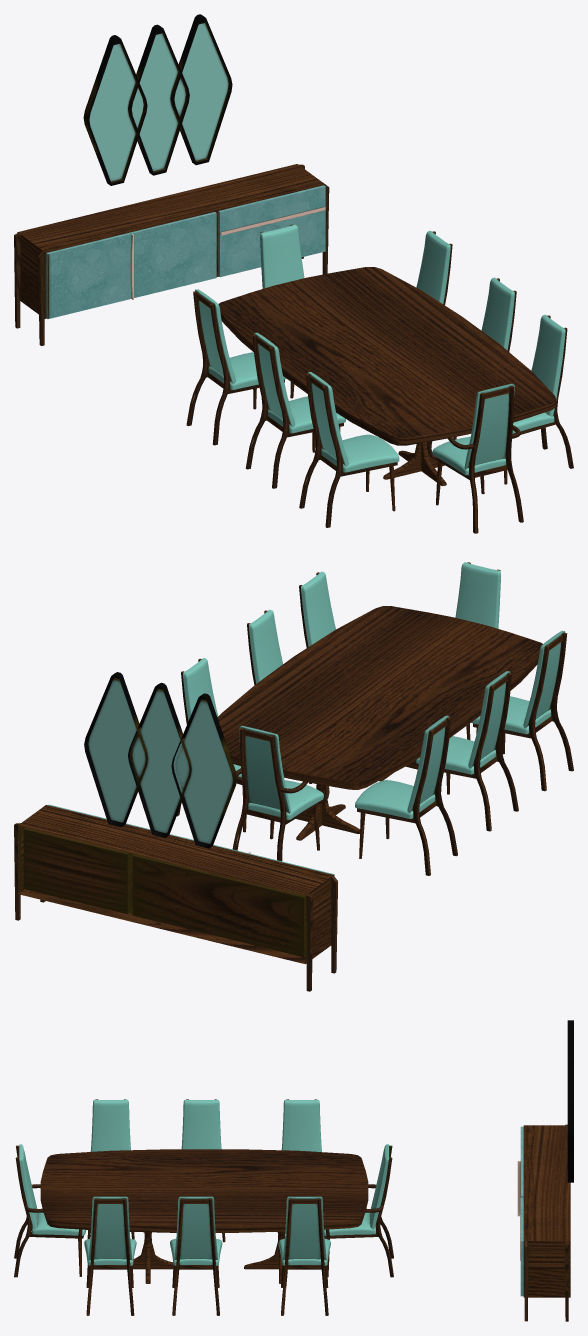
The model's file is comedor 06 GLB (1).glb.
3 renders of one model, top to bottom at view 1: azimuth 30°, elevation 25°; view 2: azimuth 150°, elevation 25°; view 3: azimuth 270°, elevation 25°, orthographic. The views are drawn at different scales.
Visible parts, largest first — view 1: Table, Ornament, Sideboard, Puertagrande, Puertaderecha, Puertaizquierda, ChairA, ChairB, ChairD, ChairC, ChairH, ChairE (+2 smaller); view 2: Table, Sideboard, Ornament, ChairE, ChairD, ChairC, ChairB, ChairA, ChairH, ChairG, ChairF; view 3: Table, Sideboard, ChairH, ChairF, ChairG, ChairA, ChairE, ChairB, ChairD, ChairC, Ornament, Puertagrande.
Boxes of the visible parts, box(x1,y1,x2,y2) form: Table: box(218, 267, 555, 485); Ornament: box(83, 14, 232, 185); Sideboard: box(14, 164, 329, 345); Puertagrande: box(218, 185, 325, 277); Puertaderecha: box(129, 212, 216, 299); Puertaizquierda: box(46, 233, 130, 318); ChairA: box(427, 383, 523, 533); ChairB: box(299, 372, 399, 527); ChairD: box(186, 289, 286, 445); ChairC: box(245, 332, 345, 488); ChairH: box(504, 314, 573, 484); ChairE: box(260, 224, 304, 398); Table: box(217, 606, 542, 840); Sideboard: box(14, 805, 337, 991); Ornament: box(84, 672, 236, 848); ChairE: box(232, 725, 329, 861); ChairD: box(355, 715, 457, 875); ChairC: box(416, 671, 518, 831); ChairB: box(471, 630, 573, 791); ChairA: box(455, 562, 500, 739); ChairH: box(299, 571, 335, 647); ChairG: box(247, 609, 311, 783); ChairF: box(177, 658, 246, 832); Table: box(40, 1149, 368, 1283); Sideboard: box(523, 1124, 570, 1321); ChairH: box(84, 1196, 136, 1315); ChairF: box(278, 1196, 330, 1315); ChairG: box(170, 1196, 222, 1315); ChairA: box(14, 1144, 86, 1277); ChairE: box(324, 1144, 393, 1277); ChairB: box(87, 1099, 134, 1239); ChairD: box(281, 1099, 324, 1238); ChairC: box(181, 1099, 225, 1242); Ornament: box(567, 1020, 573, 1182); Puertagrande: box(520, 1197, 523, 1296).
Size of the model in its own units: 272 by 238 by 539.
1 material, 1 textured.
